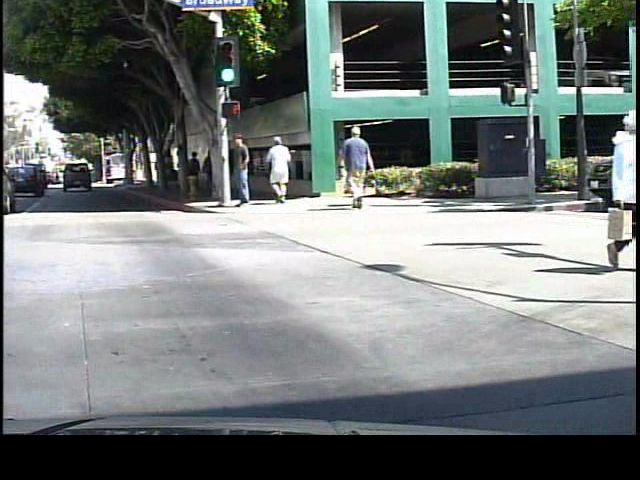person: (589, 105, 637, 272), (338, 122, 379, 210), (227, 130, 257, 214), (264, 133, 293, 206), (185, 148, 201, 196)
